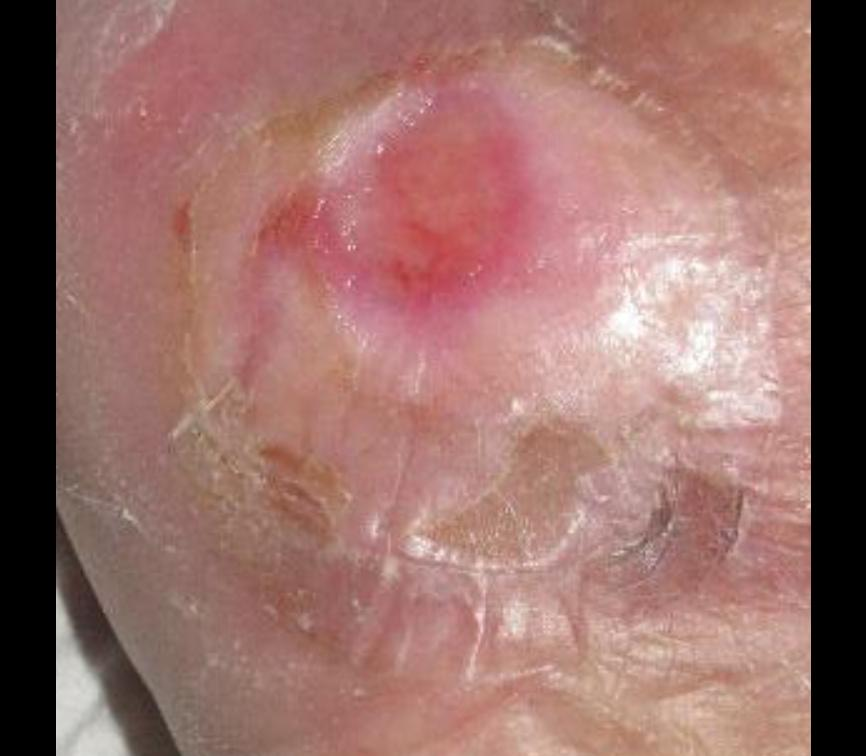Stage2: (142, 21, 811, 704)
